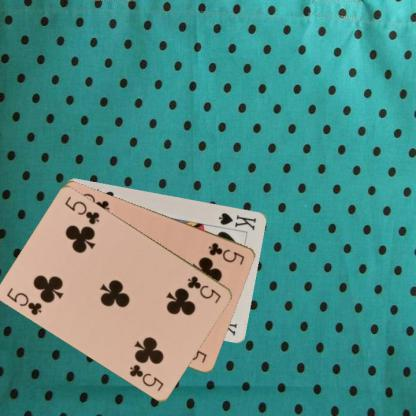5c: (5, 284, 43, 316), (185, 273, 222, 305), (206, 240, 246, 266)
Ks: (216, 209, 258, 232)
